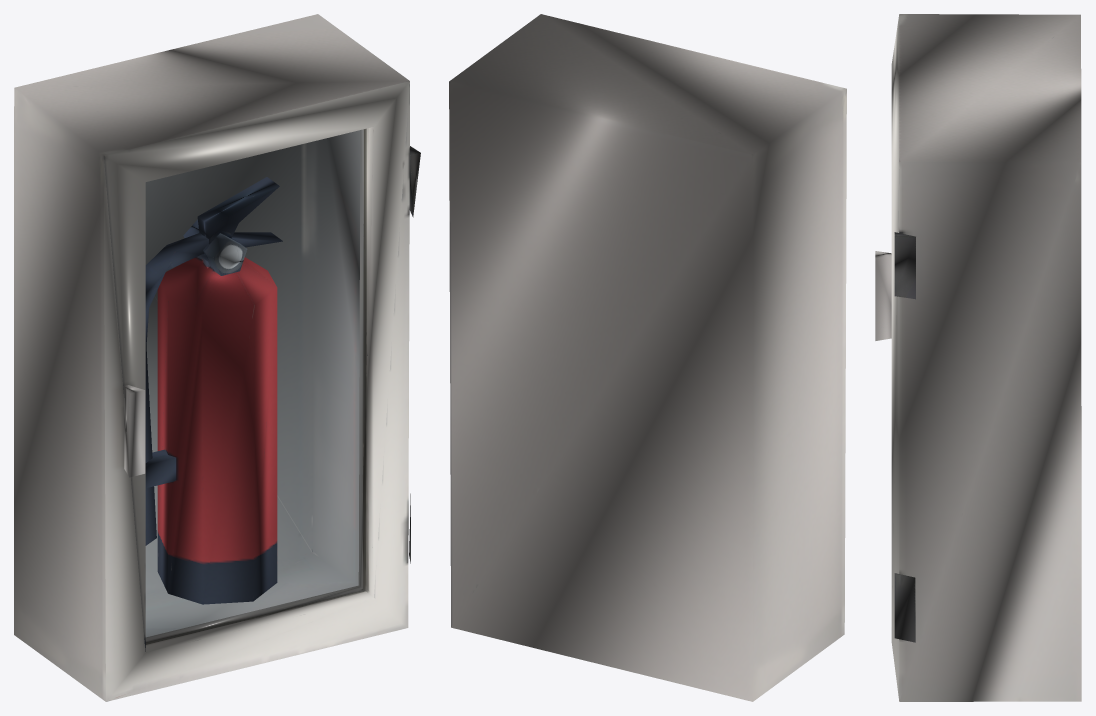
Rendered from fire_cabinet.fbx.
The picture shows the model from 3 angles, left to right: view 1: azimuth 30°, elevation 25°; view 2: azimuth 150°, elevation 25°; view 3: azimuth 270°, elevation 25°; orthographic projection.
Parts seen in each view (by area): view 1: Mesh_0; view 2: Mesh_0; view 3: Mesh_0.
Boxes of the visible parts, box(x1,y1,x2,y2) form: Mesh_0: box(14, 14, 420, 701); Mesh_0: box(449, 14, 846, 701); Mesh_0: box(875, 14, 1081, 701).
Size of the model in its own units: 57.32 by 95.07 by 32.81.
Materials: 1 (1 with a texture image).
